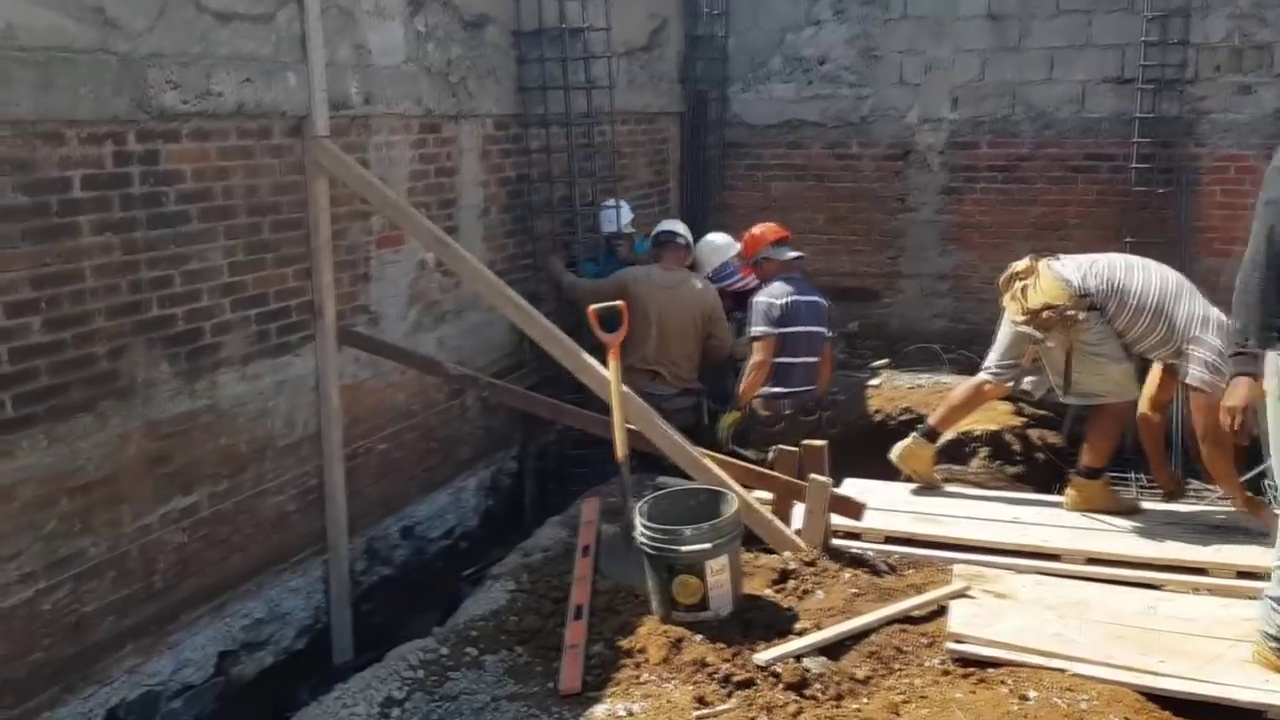helmet: (735, 220, 792, 268), (695, 228, 740, 279), (650, 218, 694, 260), (596, 197, 639, 239)
helmet-on: (737, 221, 807, 290), (595, 198, 641, 262), (697, 227, 742, 286), (649, 218, 690, 269)
person: (911, 258, 1228, 518), (547, 216, 728, 476), (1222, 146, 1280, 674), (730, 220, 828, 434), (695, 234, 758, 356)
